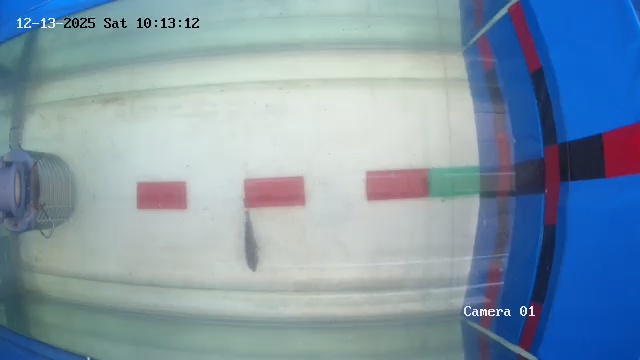fish: (238, 211, 267, 272)
